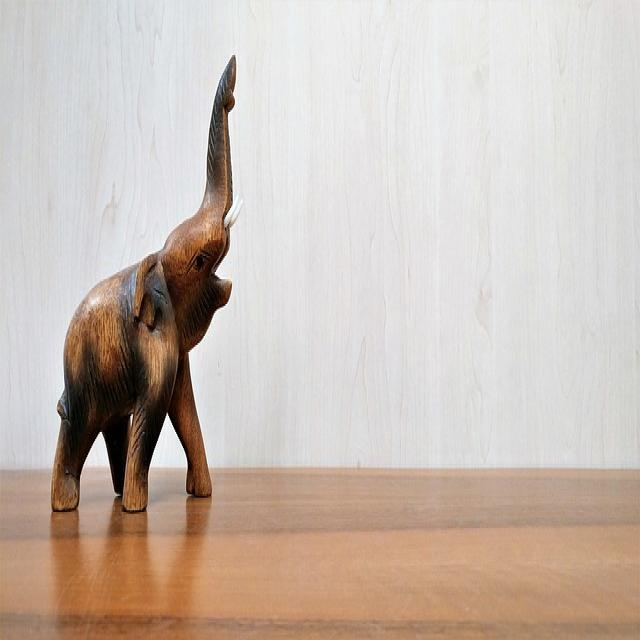FIL: (46, 55, 238, 512)
